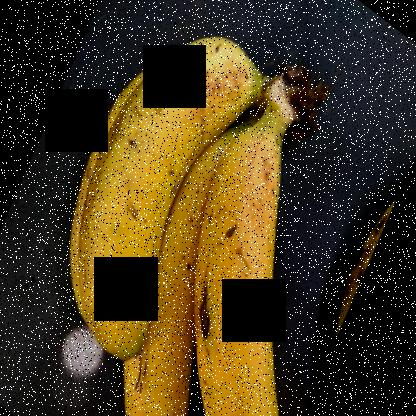ripe: (67, 1, 276, 356), (187, 132, 310, 415), (109, 158, 221, 416)
